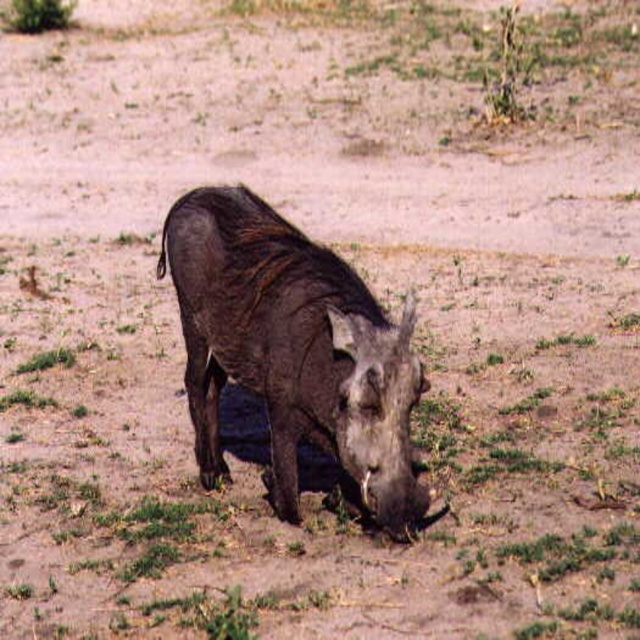Pig: (151, 178, 433, 547)
